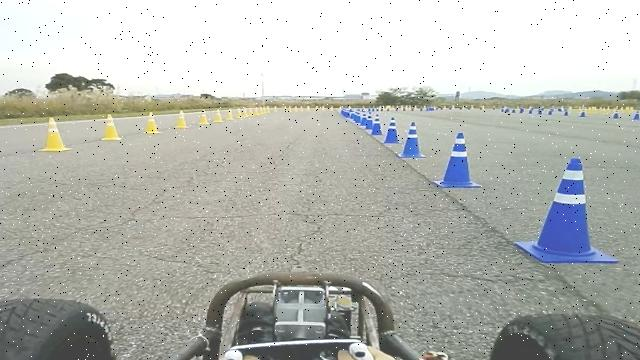blue cone: (514, 156, 620, 264), (432, 132, 482, 187), (398, 121, 427, 158), (383, 116, 401, 144), (370, 115, 384, 135)
yellow cone: (38, 116, 74, 152), (101, 114, 122, 140), (143, 111, 162, 134), (174, 109, 190, 128), (198, 109, 210, 125), (213, 110, 225, 122), (226, 108, 235, 120), (236, 108, 244, 118)
